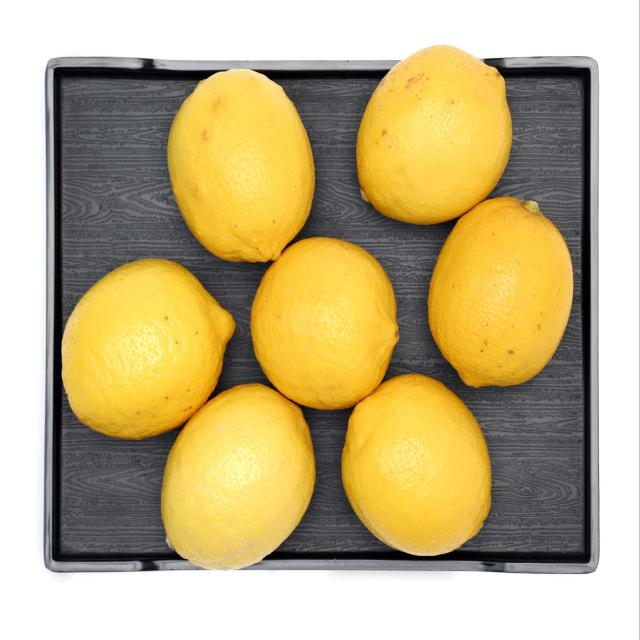lemon: (336, 8, 538, 237), (142, 357, 334, 585), (326, 356, 514, 575), (418, 171, 584, 419), (43, 251, 241, 458), (153, 53, 317, 264), (246, 204, 394, 432)
